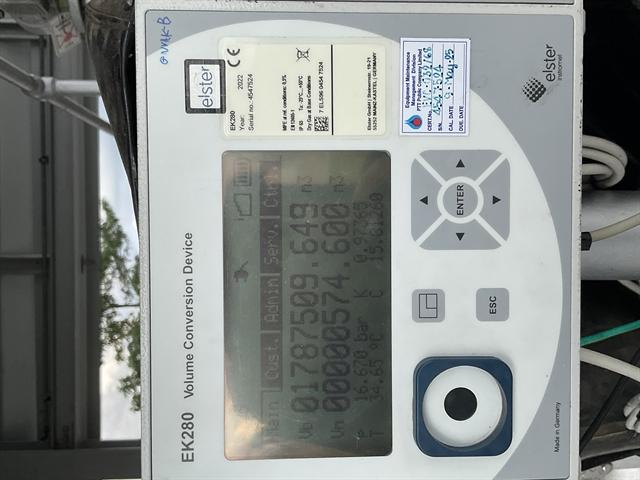digital_screen: (224, 150, 393, 459)
